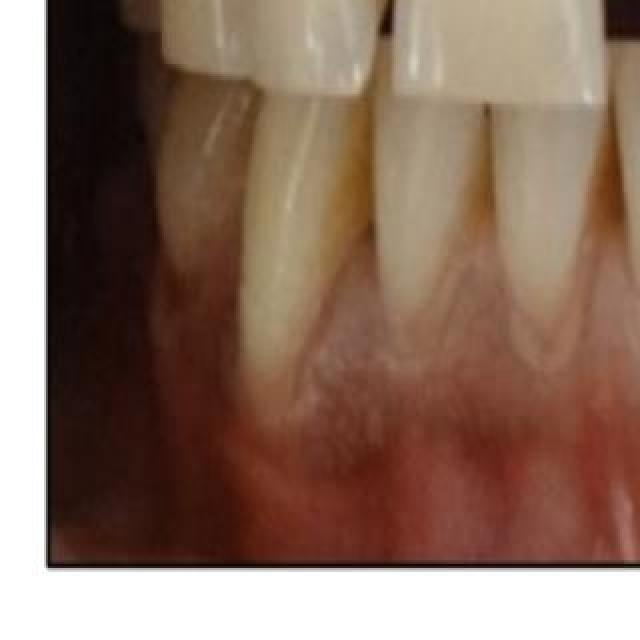spacing: (552, 0, 640, 102), (354, 0, 428, 80)
stains: (315, 86, 401, 272), (568, 102, 640, 272), (475, 160, 533, 268)
